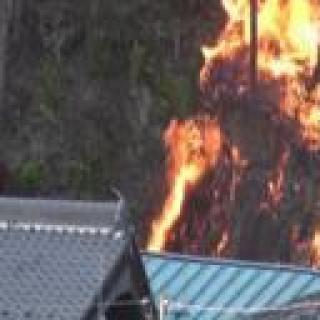fire: (159, 0, 320, 267)
